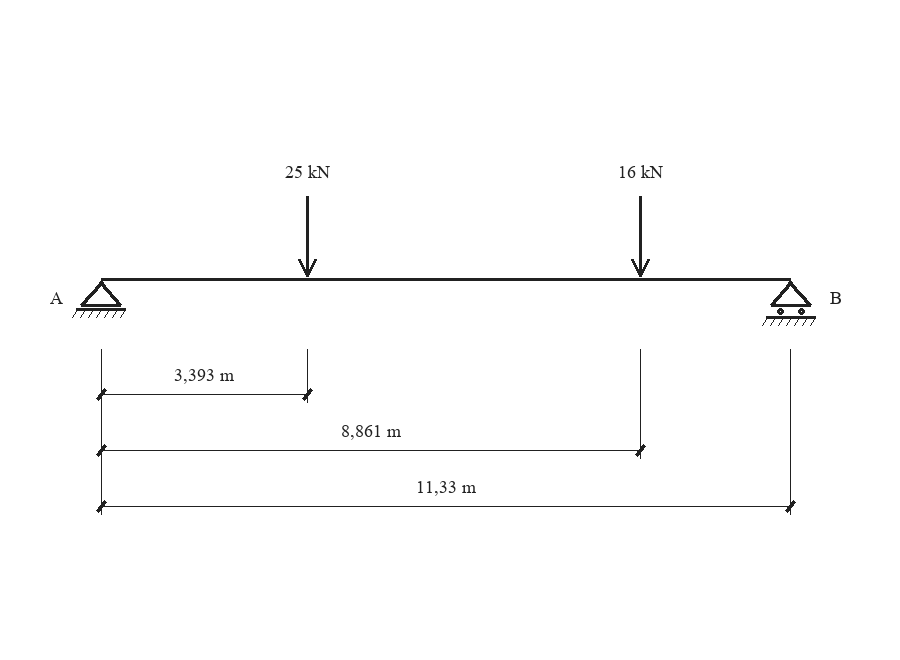pin_support: (72, 281, 126, 318)
point_load: (298, 196, 317, 277), (631, 196, 650, 277)
roller_support: (762, 281, 816, 326)
